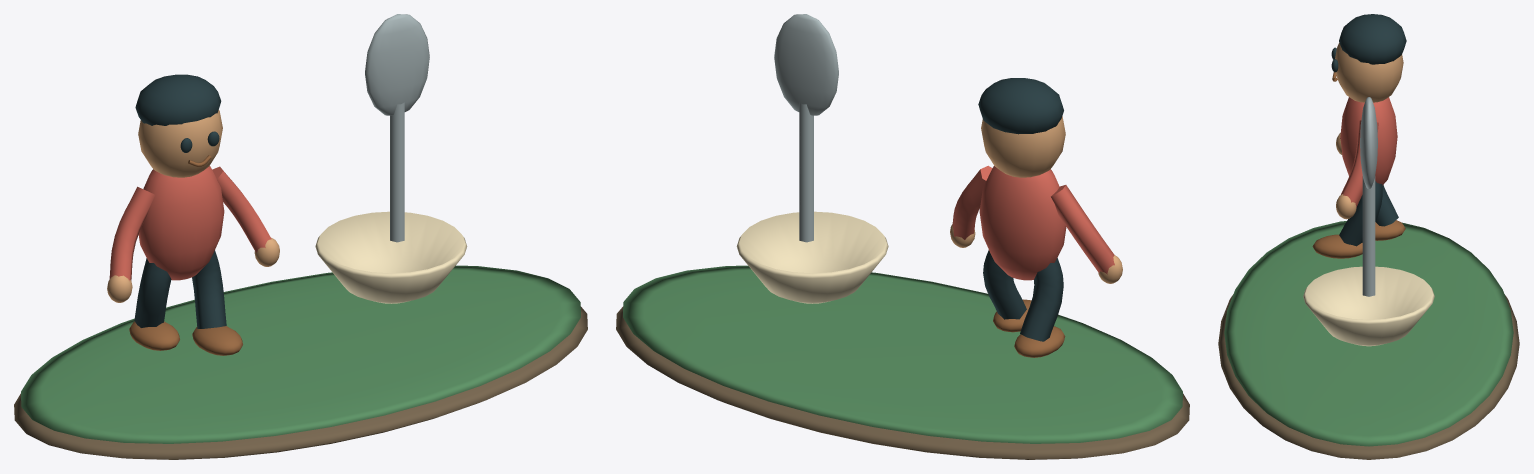
Rendered from child-spoon.glb.
3 views of the same model, side by side, from view 1: azimuth 30°, elevation 25°; view 2: azimuth 150°, elevation 25°; view 3: azimuth 270°, elevation 25° (orthographic). The views are drawn at different scales.
Visible parts, largest first — view 1: child-spoon_surface_01, child-spoon_surface_06, child-spoon_surface_00, child-spoon_surface_07, child-spoon_surface_04, child-spoon_surface_02, child-spoon_surface_03, child-spoon_surface_05; view 2: child-spoon_surface_01, child-spoon_surface_06, child-spoon_surface_00, child-spoon_surface_07, child-spoon_surface_04, child-spoon_surface_02, child-spoon_surface_03, child-spoon_surface_05; view 3: child-spoon_surface_01, child-spoon_surface_07, child-spoon_surface_00, child-spoon_surface_04, child-spoon_surface_06, child-spoon_surface_03, child-spoon_surface_02, child-spoon_surface_05.
Part boxes in pixels (bbox=[...]): child-spoon_surface_01: bbox=[21, 265, 580, 443]; child-spoon_surface_06: bbox=[109, 166, 271, 280]; child-spoon_surface_00: bbox=[14, 306, 587, 459]; child-spoon_surface_07: bbox=[315, 211, 467, 303]; child-spoon_surface_04: bbox=[134, 74, 226, 328]; child-spoon_surface_02: bbox=[365, 14, 429, 242]; child-spoon_surface_03: bbox=[107, 110, 279, 302]; child-spoon_surface_05: bbox=[129, 155, 242, 355]; child-spoon_surface_01: bbox=[623, 265, 1182, 443]; child-spoon_surface_06: bbox=[952, 165, 1114, 280]; child-spoon_surface_00: bbox=[616, 306, 1189, 459]; child-spoon_surface_07: bbox=[736, 211, 888, 303]; child-spoon_surface_04: bbox=[978, 78, 1063, 341]; child-spoon_surface_02: bbox=[774, 14, 838, 242]; child-spoon_surface_03: bbox=[950, 116, 1122, 283]; child-spoon_surface_05: bbox=[993, 299, 1065, 357]; child-spoon_surface_01: bbox=[1224, 221, 1513, 446]; child-spoon_surface_07: bbox=[1303, 266, 1434, 346]; child-spoon_surface_00: bbox=[1218, 294, 1519, 459]; child-spoon_surface_04: bbox=[1331, 14, 1406, 246]; child-spoon_surface_06: bbox=[1340, 97, 1397, 207]; child-spoon_surface_03: bbox=[1335, 43, 1403, 219]; child-spoon_surface_02: bbox=[1360, 97, 1377, 296]; child-spoon_surface_05: bbox=[1312, 72, 1405, 258].
Bounding box in the file's own units: 4.56 × 2.75 × 2.5.
